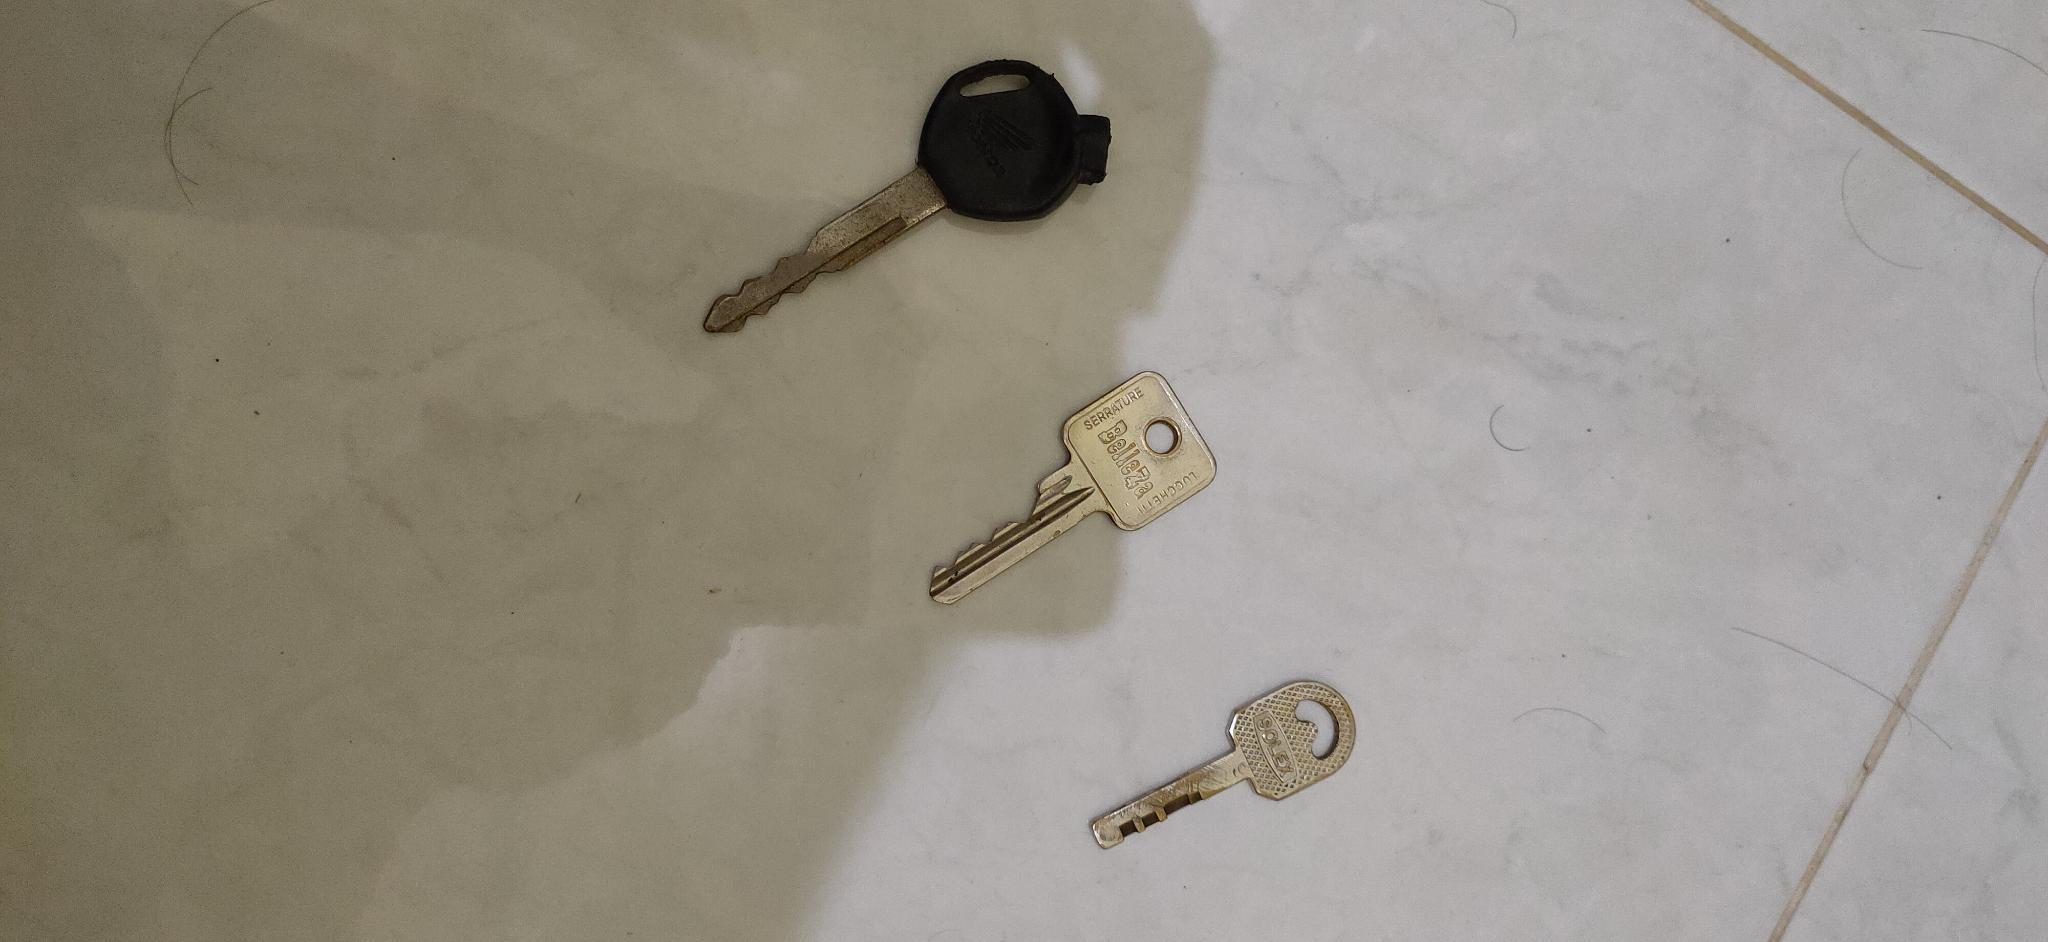keys: (680, 38, 1125, 363), (922, 362, 1236, 615), (1085, 666, 1371, 854)
